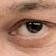eye: (26, 22, 44, 34)
